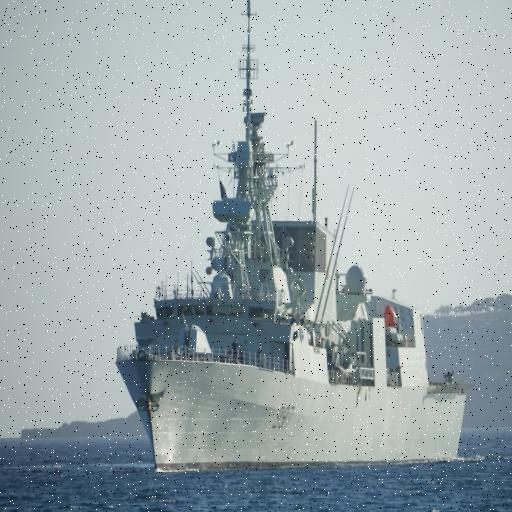Fragata: (114, 1, 479, 478)
